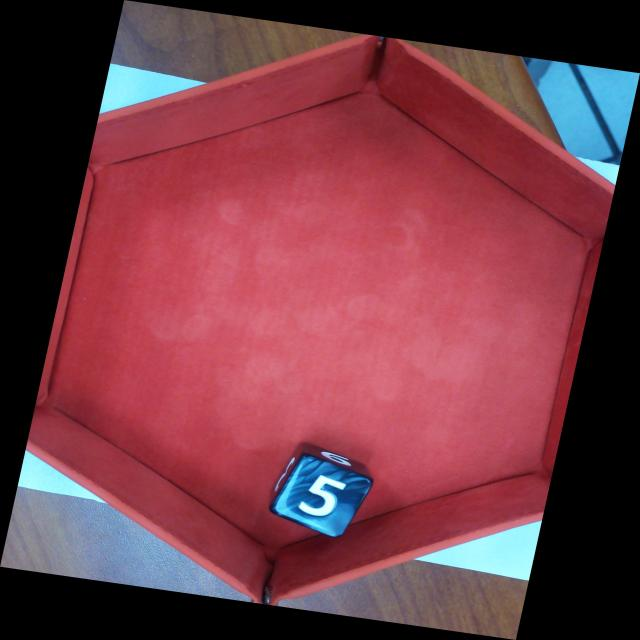dice: (273, 453, 371, 538)
